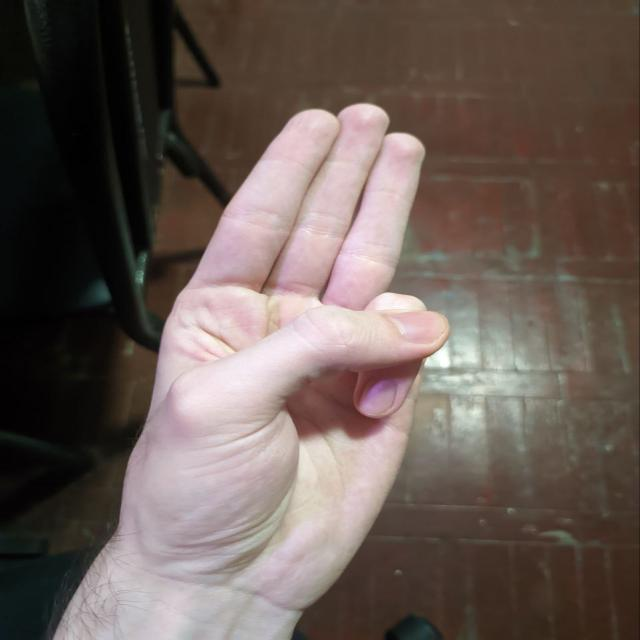sh: (122, 75, 450, 600)
